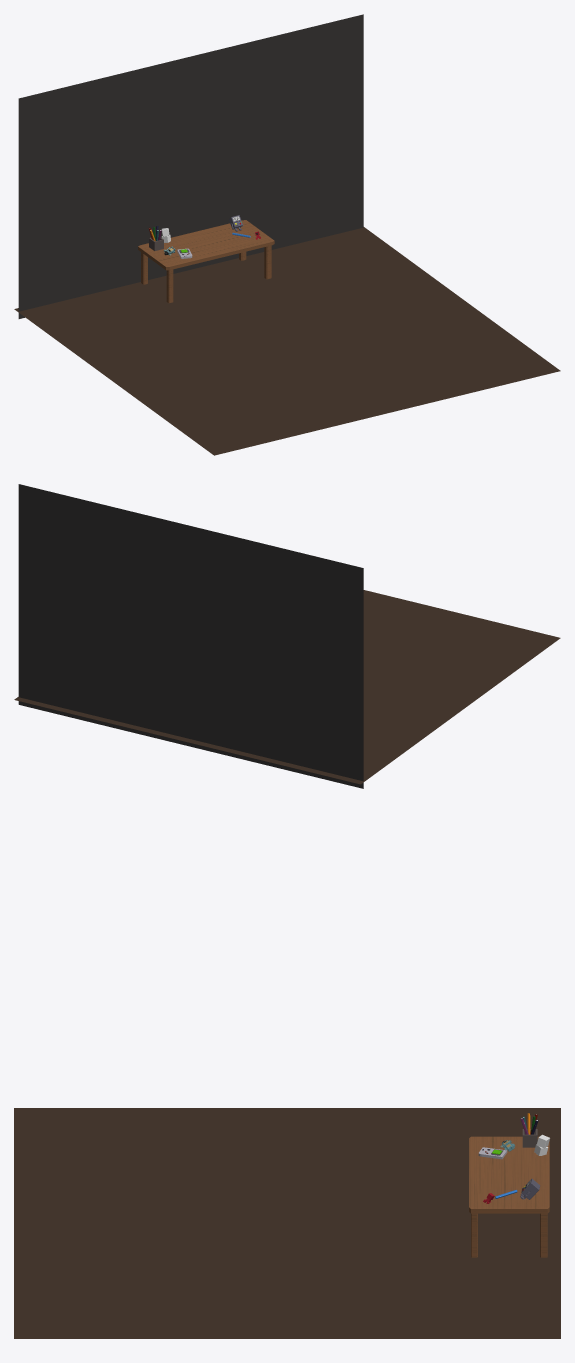
The model's file is Amix.fbx.
3 views of the same model, one above another, from view 1: azimuth 30°, elevation 25°; view 2: azimuth 150°, elevation 25°; view 3: azimuth 270°, elevation 25° (orthographic). The views are drawn at different scales.
Visible parts, largest first — view 1: Pared, Piso, Mesa; view 2: Pared, Piso; view 3: Piso, Mesa.
Boxes of the visible parts, <box> form: Pared: <box>18,14,363,318</box>; Piso: <box>14,227,560,455</box>; Mesa: <box>138,220,274,303</box>; Pared: <box>18,484,363,788</box>; Piso: <box>14,590,560,784</box>; Piso: <box>14,1108,560,1338</box>; Mesa: <box>469,1136,549,1257</box>.
Bounding box in the file's own units: 33248 × 20230 × 33248.
Materials: 32 (1 with a texture image).
